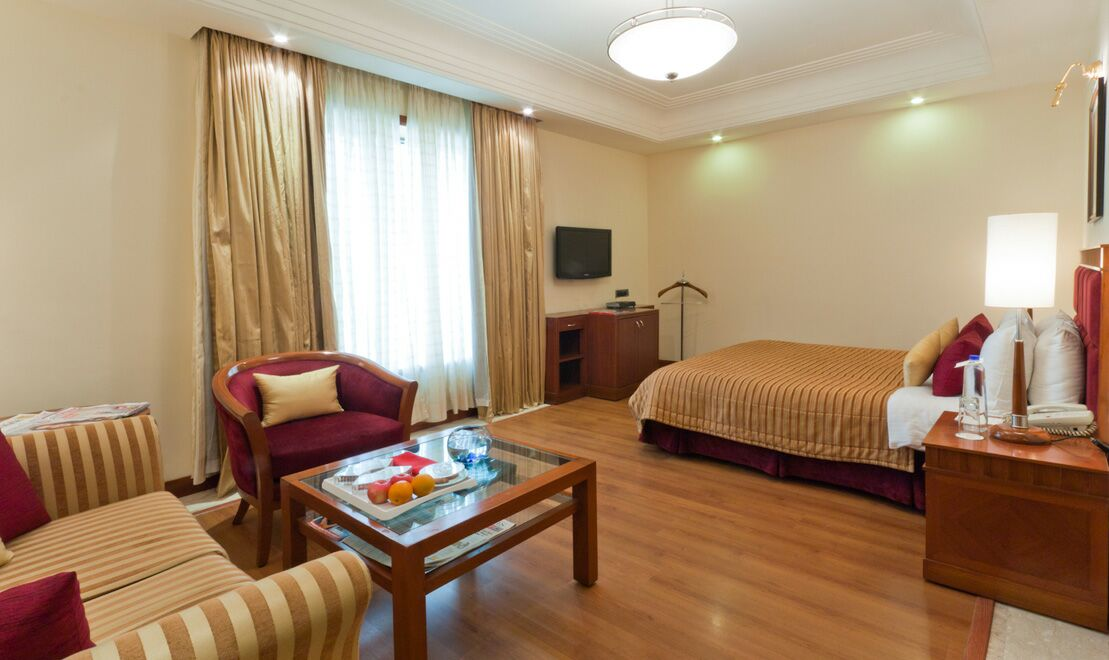chair: (2, 418, 363, 660), (209, 349, 415, 459)
